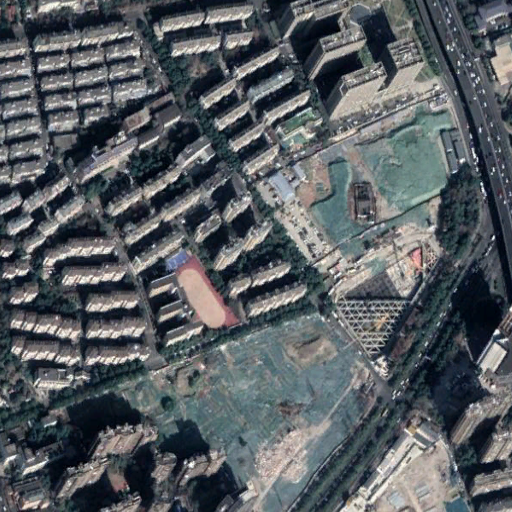cw: (119, 314, 379, 512), (296, 102, 460, 266)
